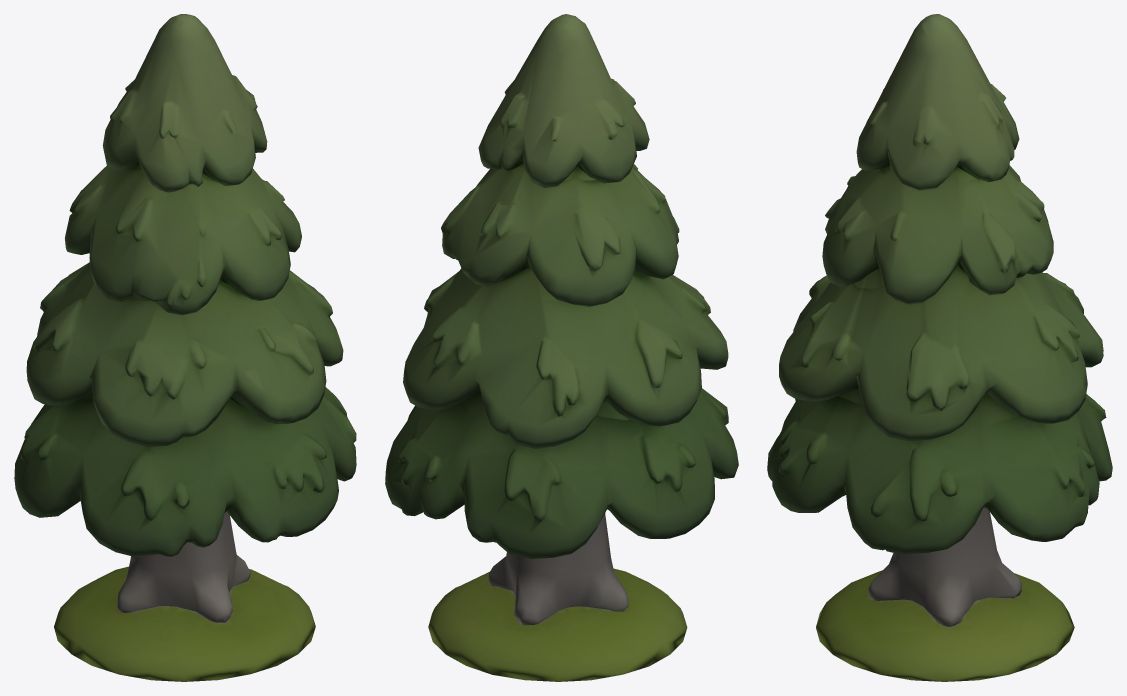
File: primeval-conifer.glb
The picture shows the model from 3 angles, left to right: view 1: azimuth 30°, elevation 25°; view 2: azimuth 150°, elevation 25°; view 3: azimuth 270°, elevation 25°; orthographic projection.
Parts seen in each view (by area): view 1: Primeval Conifer; view 2: Primeval Conifer; view 3: Primeval Conifer.
Boxes of the visible parts, <box> form: Primeval Conifer: <box>14,14,356,681</box>; Primeval Conifer: <box>385,14,738,681</box>; Primeval Conifer: <box>767,14,1112,681</box>.
Bounding box in the file's own units: 0.5137 × 0.998 × 0.5137.
Materials: 1 (1 with a texture image).
